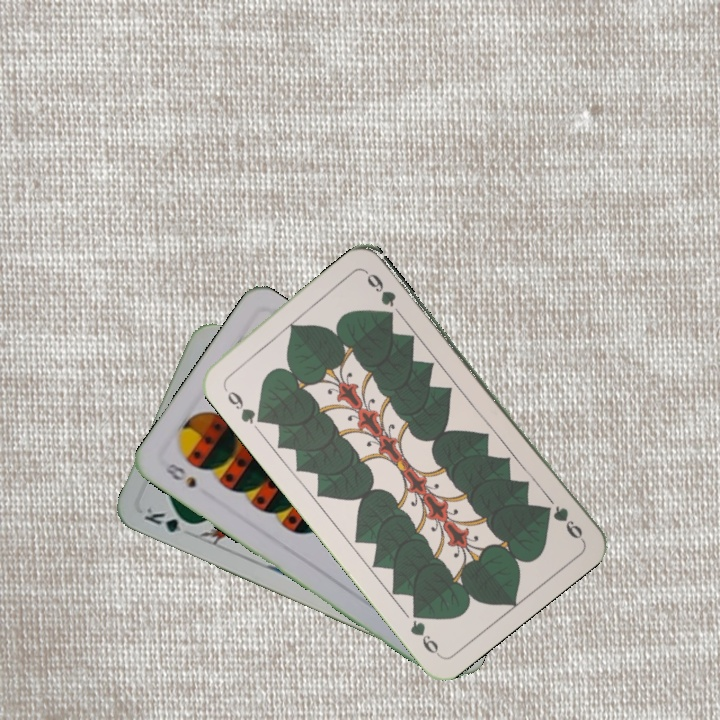G9: (540, 501, 586, 543), (223, 387, 267, 427)
GK: (140, 503, 197, 535)
S8: (158, 459, 199, 491)
